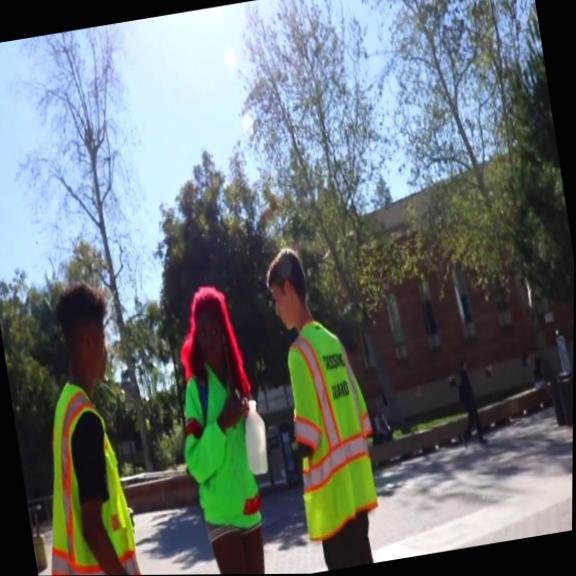safety_vest: (272, 312, 388, 542), (19, 373, 149, 576)
